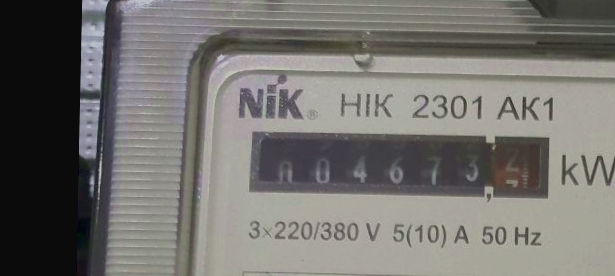0: (274, 155, 295, 186), (312, 154, 331, 185)
2: (501, 142, 522, 174)
3: (462, 150, 480, 185)
4: (350, 151, 369, 186)
6: (384, 152, 406, 186)
7: (422, 152, 445, 190)
screen: (244, 125, 554, 208)
